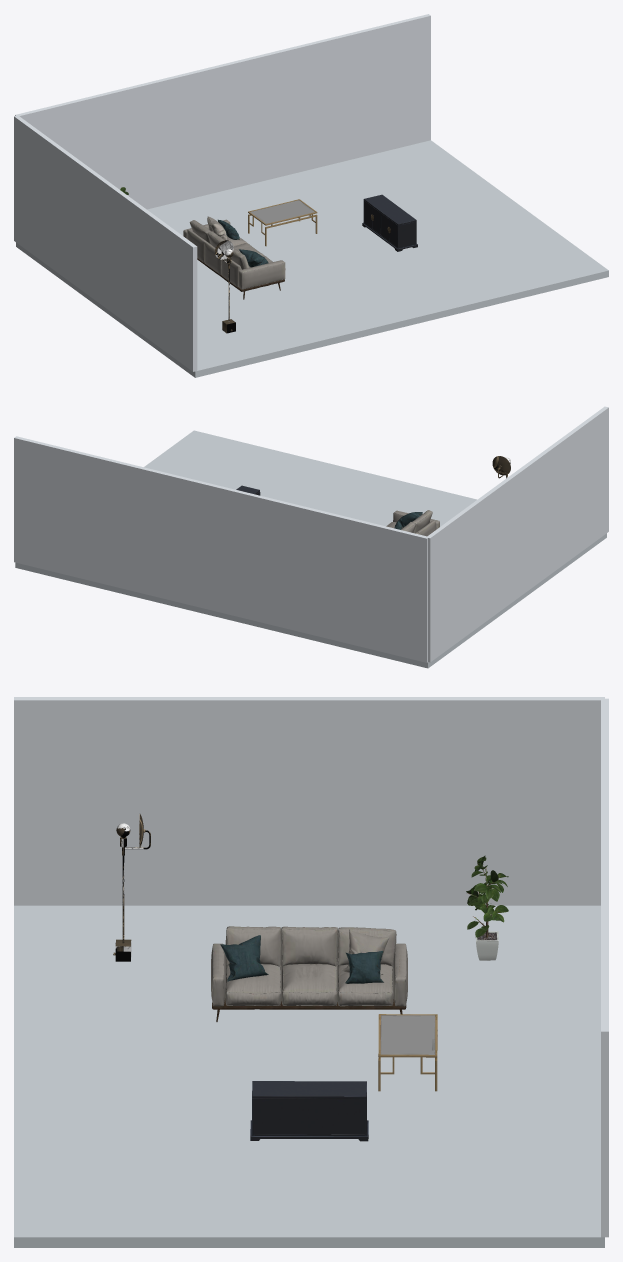
Rendered from stage2.glb.
3 renders of one model, top to bottom at view 1: azimuth 30°, elevation 25°; view 2: azimuth 150°, elevation 25°; view 3: azimuth 270°, elevation 25°, orthographic. The views are drawn at different scales.
Visible parts, largest first — view 1: Floor, wall_back, wall_left, raw_model, raw_model.002, raw_model.001, raw_model.004; view 2: wall_back, wall_left, Floor, raw_model; view 3: Floor, wall_left, raw_model, raw_model.002, wall_back, raw_model.001, raw_model.003, raw_model.004.
Boxes of the visible parts, x1,y1,x2,y2 form: Floor: (16, 140, 608, 377); wall_back: (15, 14, 430, 209); wall_left: (14, 116, 197, 371); raw_model: (183, 216, 285, 299); raw_model.002: (362, 194, 417, 251); raw_model.001: (248, 199, 317, 246); raw_model.004: (215, 240, 235, 333); wall_back: (14, 436, 428, 662); wall_left: (427, 406, 608, 662); Floor: (15, 430, 606, 668); raw_model: (386, 510, 439, 536); Floor: (14, 905, 604, 1247); wall_left: (14, 697, 604, 905); raw_model: (211, 926, 407, 1021); raw_model.002: (250, 1081, 368, 1141); wall_back: (601, 698, 608, 1237); raw_model.001: (378, 1014, 437, 1091); raw_model.003: (466, 855, 508, 960); raw_model.004: (113, 814, 150, 961).
Bounding box in the file's own units: 8.04 × 2.42 × 6.04.
Materials: 7 (5 with a texture image).
